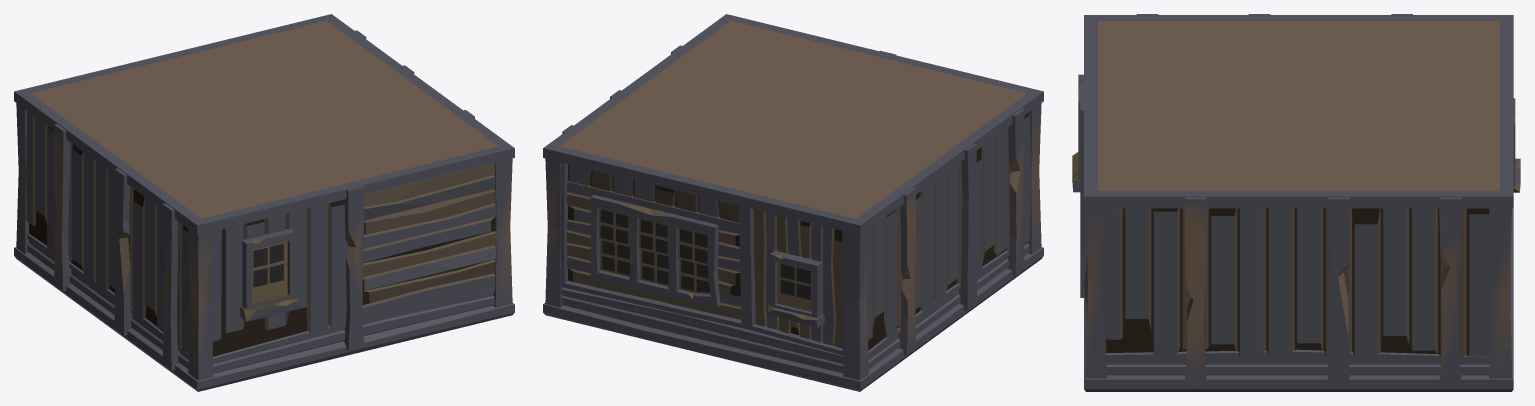
Rendered from SM_Bld_Shanty_Room_01.glb.
3 renders of one model, left to right at view 1: azimuth 30°, elevation 25°; view 2: azimuth 150°, elevation 25°; view 3: azimuth 270°, elevation 25°, orthographic. The views are drawn at different scales.
Visible parts, largest first — view 1: SM_Bld_Shanty_Room_01; view 2: SM_Bld_Shanty_Room_01; view 3: SM_Bld_Shanty_Room_01.
Boxes of the visible parts, x1,y1,x2,y2 form: SM_Bld_Shanty_Room_01: (14, 14, 514, 391); SM_Bld_Shanty_Room_01: (543, 14, 1043, 391); SM_Bld_Shanty_Room_01: (1072, 14, 1520, 391).
Bounding box in the file's own units: 0.051 × 0.0252 × 0.0522.
